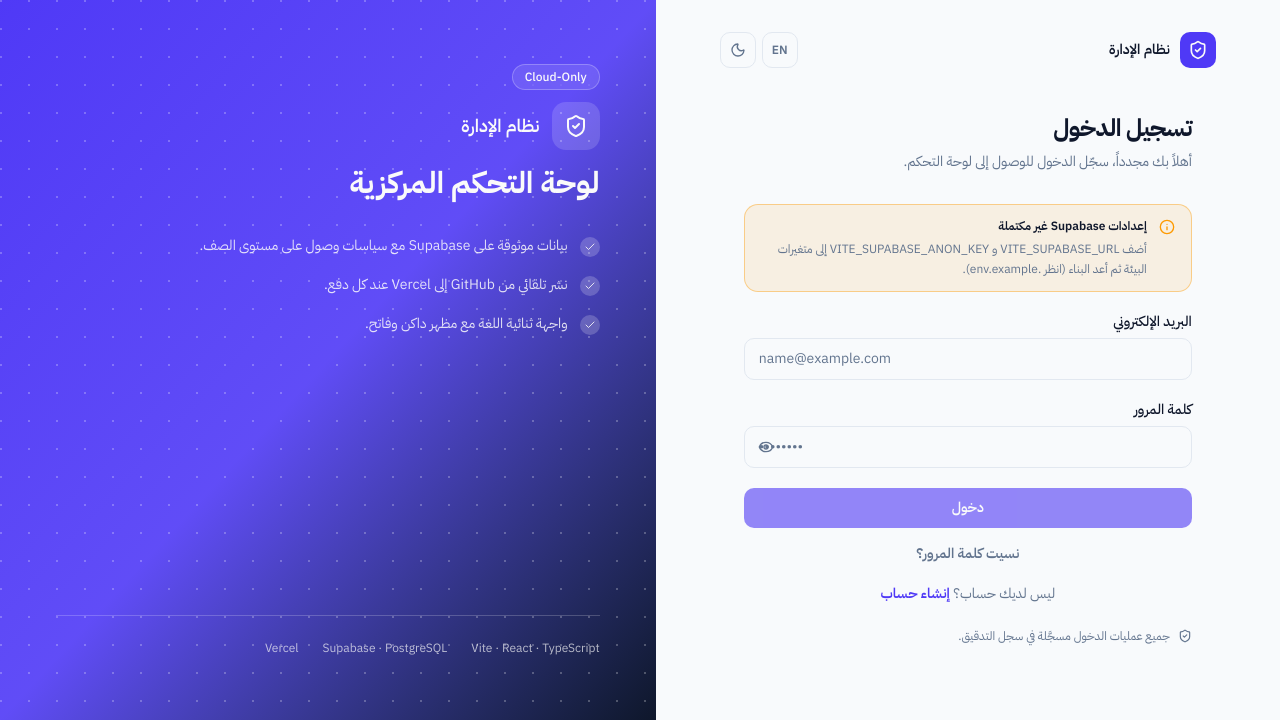
Test: Login — forgot password (manual approval request) › submits a normalized request and shows the under-review confirmation
Click the button "نسيت كلمة المرور؟": (968, 554) [916,544,1019,564]
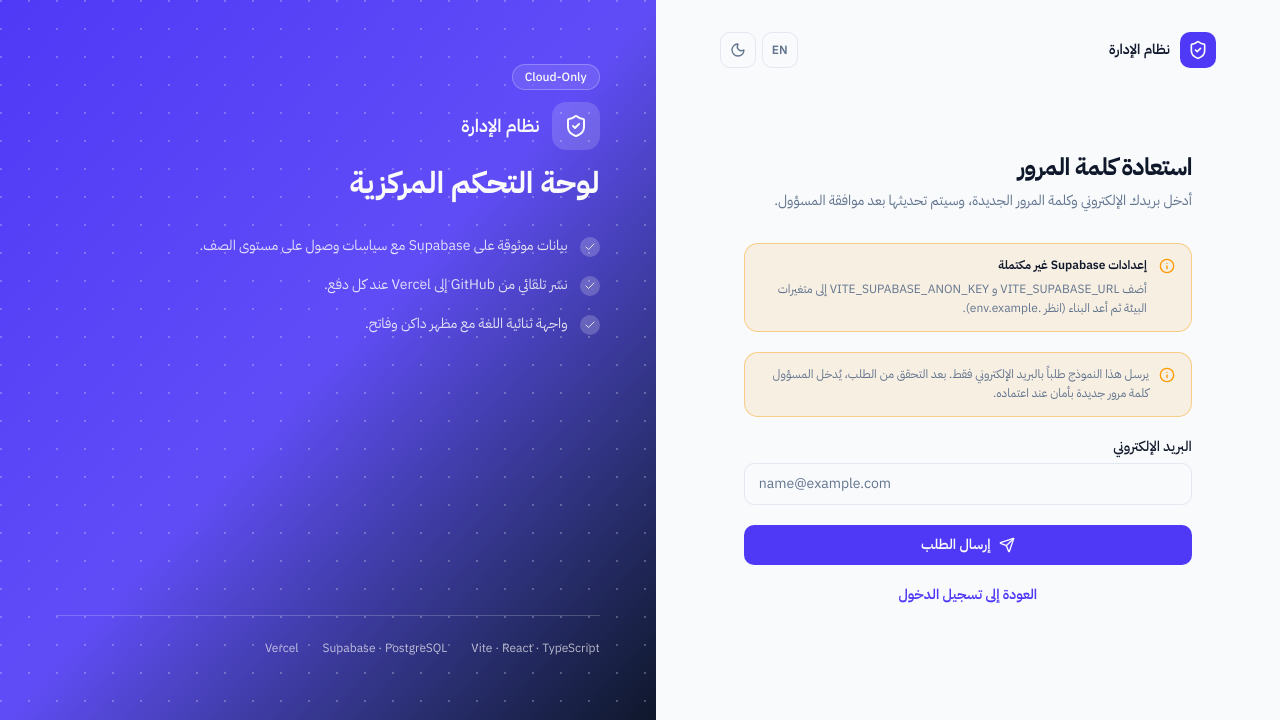
In the field labelled "البريد الإلكتروني": (968, 484) [744,463,1192,505], type "  Member@Example.COM "
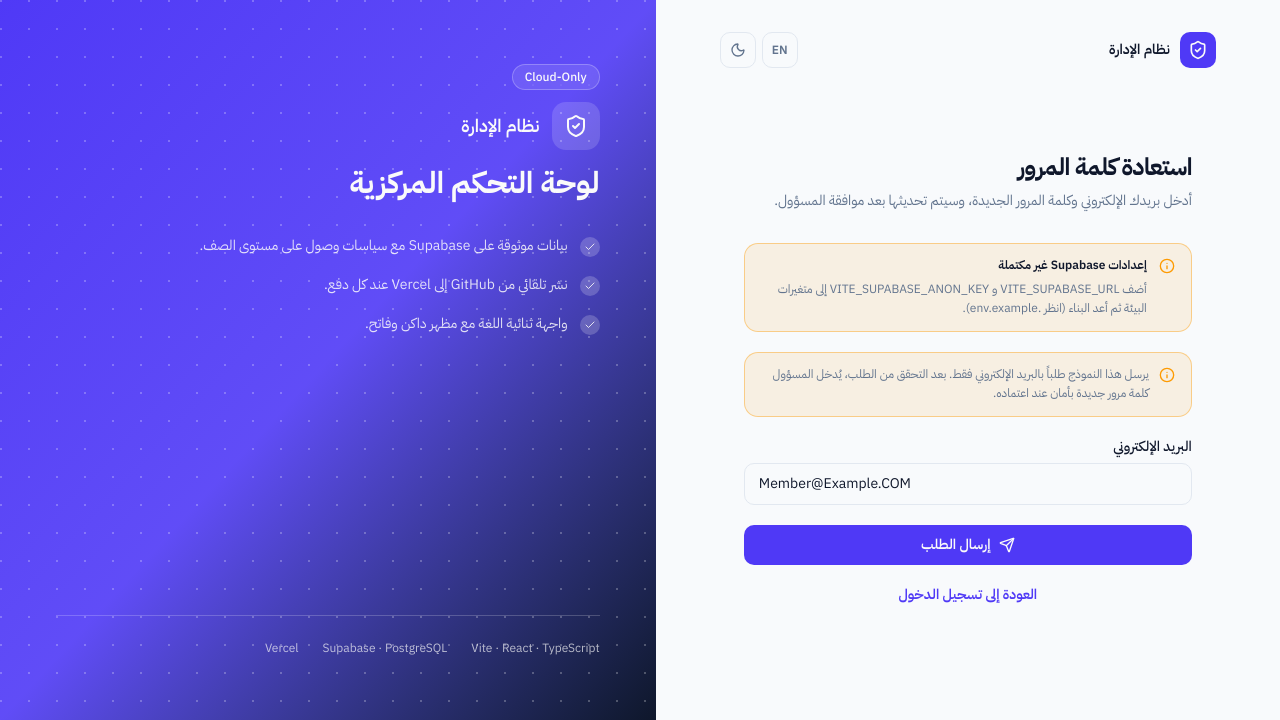
Result: the button "إرسال الطلب" is enabled
Click the button "إرسال الطلب": (968, 545) [744,525,1192,565]
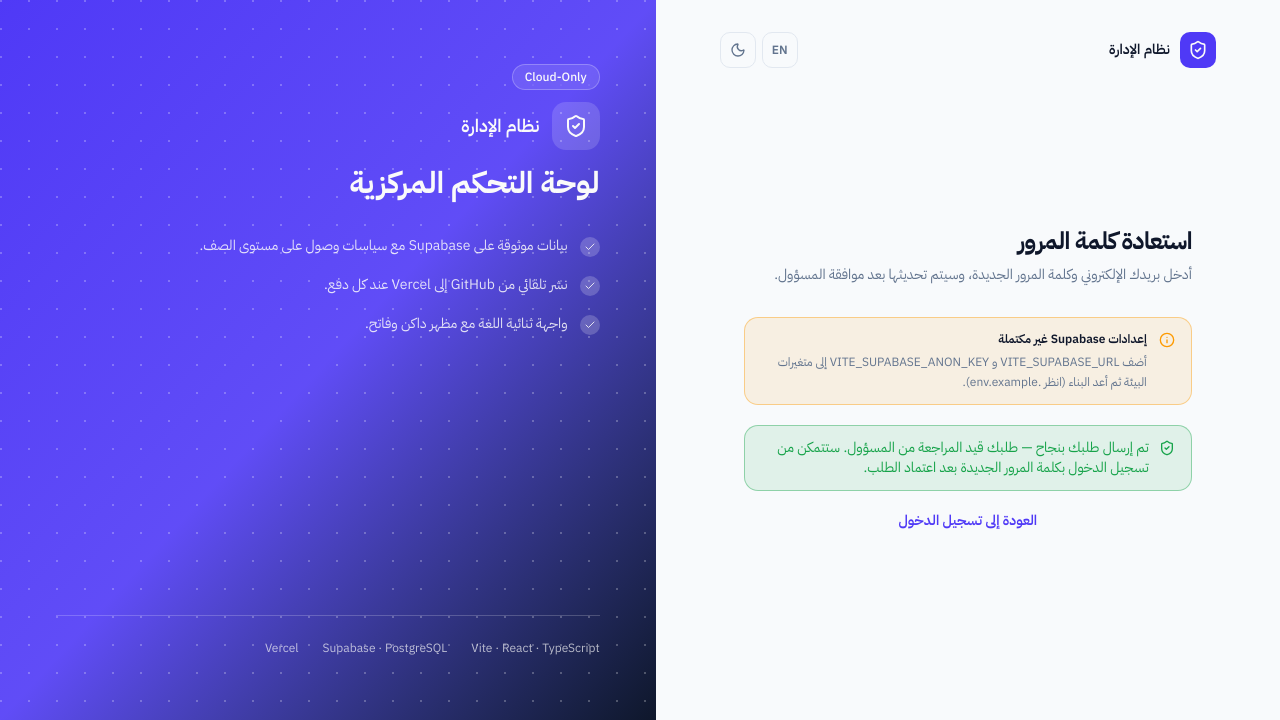
Result: the text "تم إرسال طلبك بنجاح — طلبك قيد المراجعة من المسؤول. ستتمكن من تسجيل الدخول بكلمة المرور الجديدة بعد اعتماد الطلب." is shown at [777,437,1149,478]
Result: the text labelled "البريد الإلكتروني" is gone
